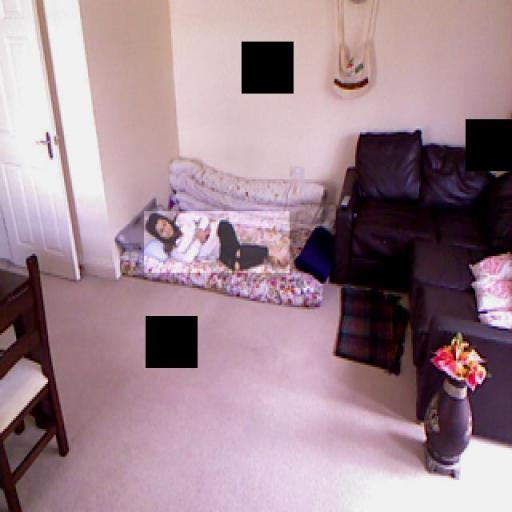Fall: (144, 211, 290, 273)
